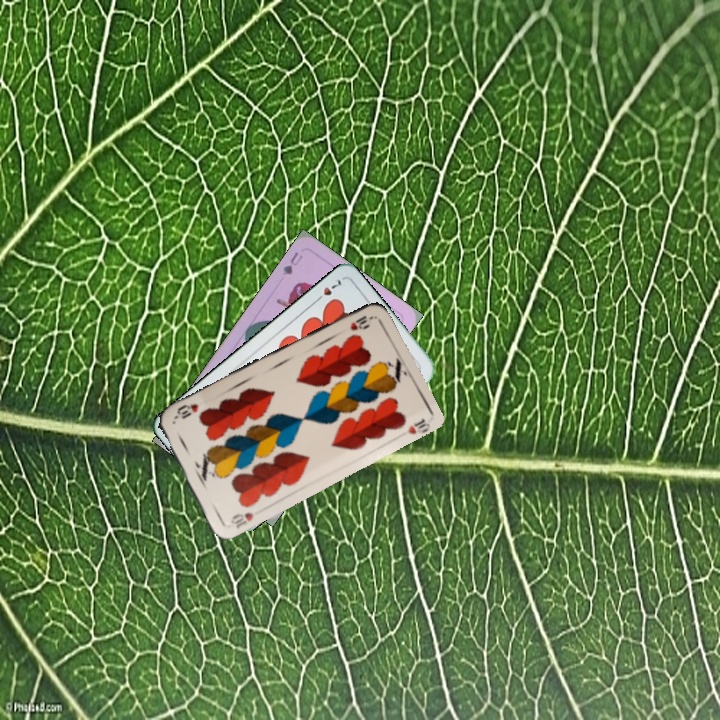GU: (279, 248, 305, 278)
H10: (226, 508, 257, 531), (346, 311, 374, 332)
H7: (311, 275, 344, 305)
